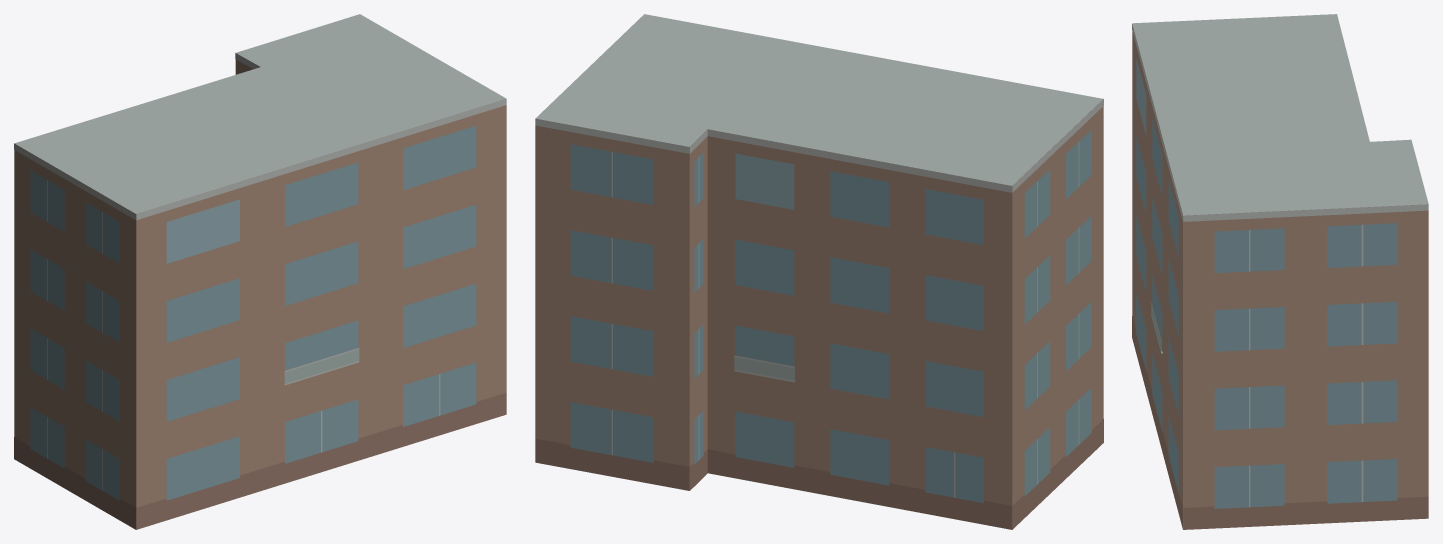
File: survey-upis-32882699.glb
3 views of the same model, side by side, from view 1: azimuth 30°, elevation 25°; view 2: azimuth 150°, elevation 25°; view 3: azimuth 270°, elevation 25° (orthographic). The views are drawn at different scales.
Parts seen in each view (by area): view 1: survey-upis-32882699.tmp; view 2: survey-upis-32882699.tmp; view 3: survey-upis-32882699.tmp.
Part boxes in pixels (bbox=[...]): survey-upis-32882699.tmp: bbox=[14, 14, 506, 529]; survey-upis-32882699.tmp: bbox=[535, 14, 1103, 529]; survey-upis-32882699.tmp: bbox=[1132, 14, 1428, 529].
Bounding box in the file's own units: 16.79 × 12.2 × 10.45.
